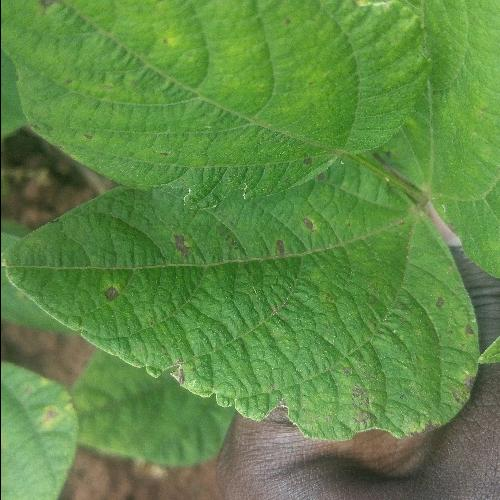hawar: (238, 382, 442, 450), (422, 278, 481, 416), (250, 182, 335, 266), (161, 228, 197, 275), (150, 352, 189, 380), (100, 278, 122, 304)
mozaik: (50, 3, 397, 151)
